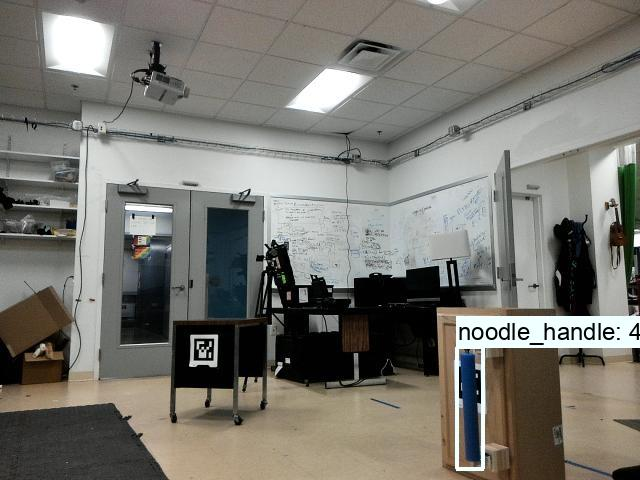noodle_handle: (456, 349, 481, 468)
